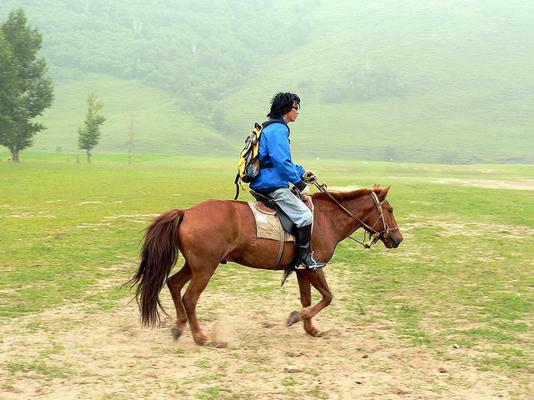person: (249, 93, 327, 270)
